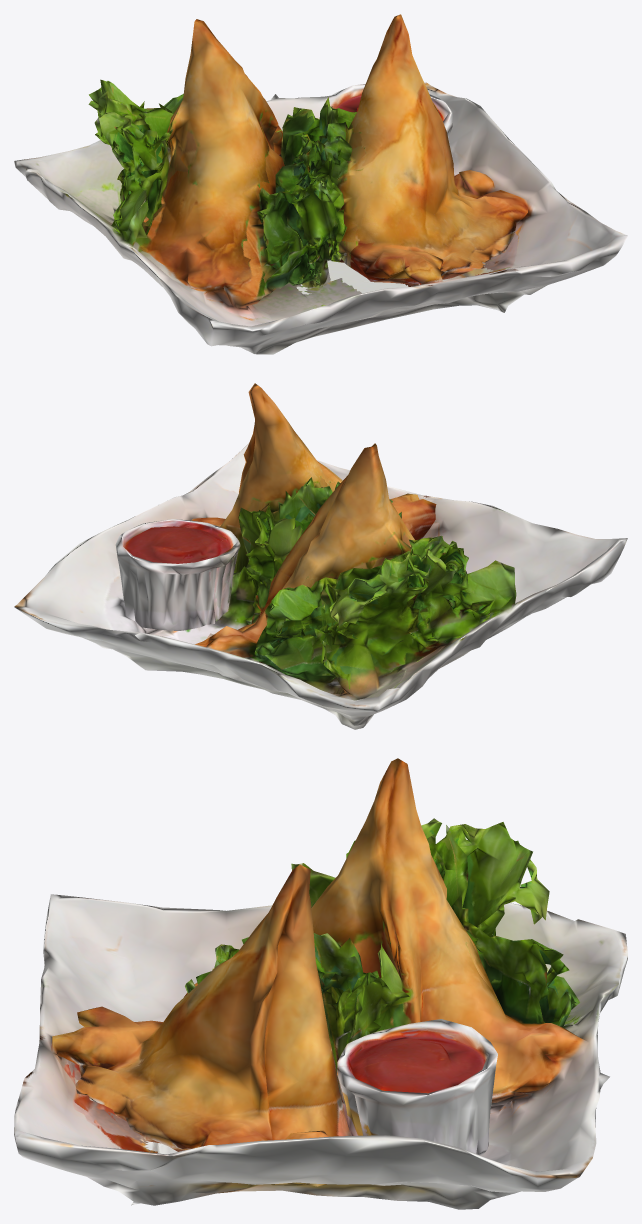
File: samosa.glb
The picture shows the model from 3 angles, top to bottom: view 1: azimuth 30°, elevation 25°; view 2: azimuth 150°, elevation 25°; view 3: azimuth 270°, elevation 25°; orthographic projection. The views are drawn at different scales.
Parts seen in each view (by area): view 1: samosa; view 2: samosa; view 3: samosa.
Boxes of the visible parts, left/top/right/bottom form: samosa: left=14, top=14, right=627, bottom=354; samosa: left=14, top=383, right=627, bottom=729; samosa: left=14, top=758, right=627, bottom=1209.
Size of the model in its own units: 1.9 by 1.11 by 1.9.
Materials: 1 (1 with a texture image).
